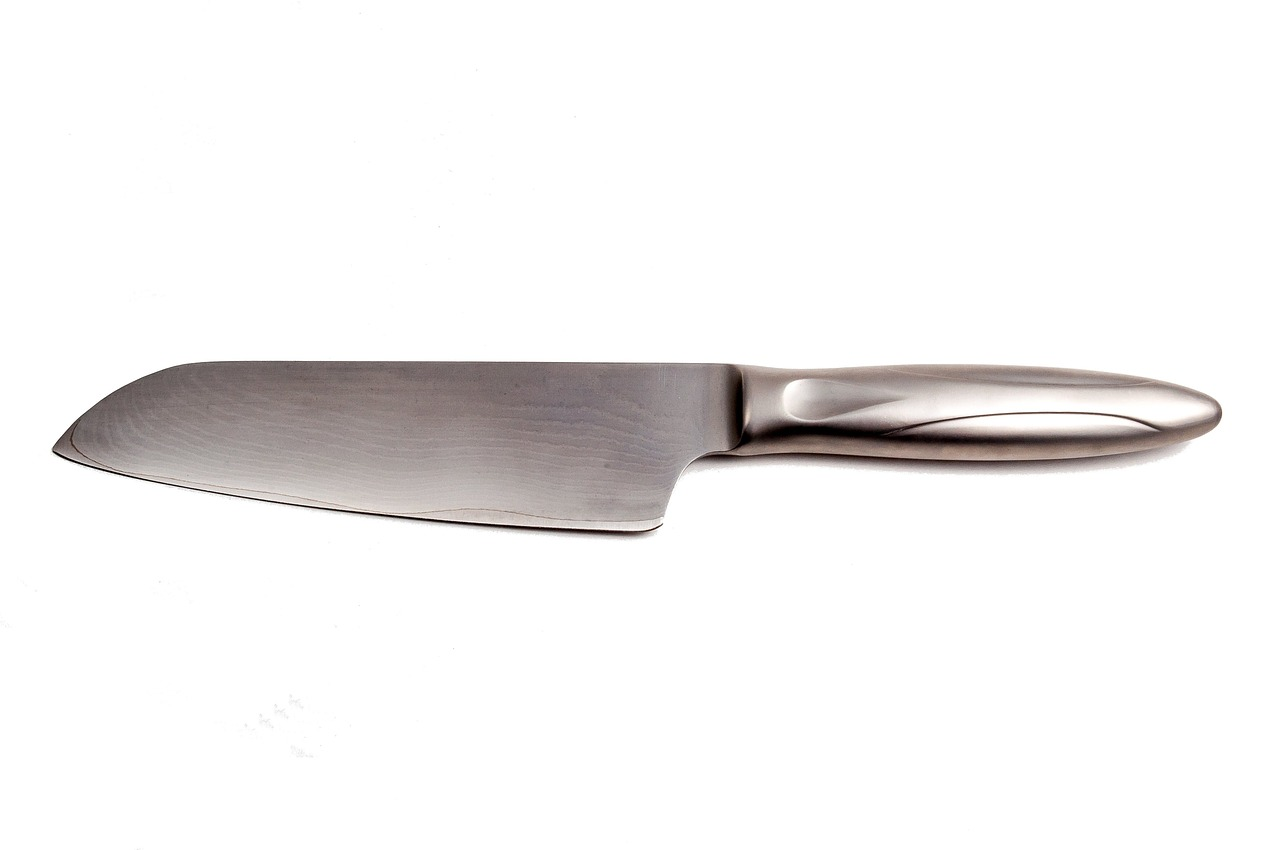knife: (35, 354, 1218, 548)
